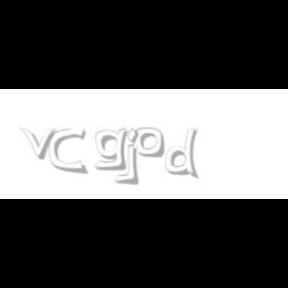C: (50, 128, 86, 174)
d: (165, 128, 202, 180)
g: (94, 128, 132, 171)
j: (124, 128, 153, 186)
o: (136, 128, 164, 158)
v: (20, 128, 60, 160)
